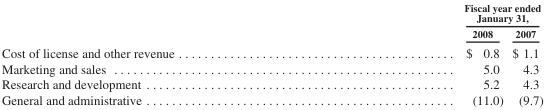table: (1, 1, 542, 106)
table column: (1, 1, 318, 106), (318, 1, 507, 106), (507, 1, 542, 106)
table column header: (1, 1, 542, 42)
table row: (1, 1, 542, 25), (1, 42, 542, 60), (1, 25, 542, 42), (1, 60, 542, 76), (1, 76, 542, 91), (1, 91, 542, 106)
table spanning cell: (318, 1, 542, 25)
